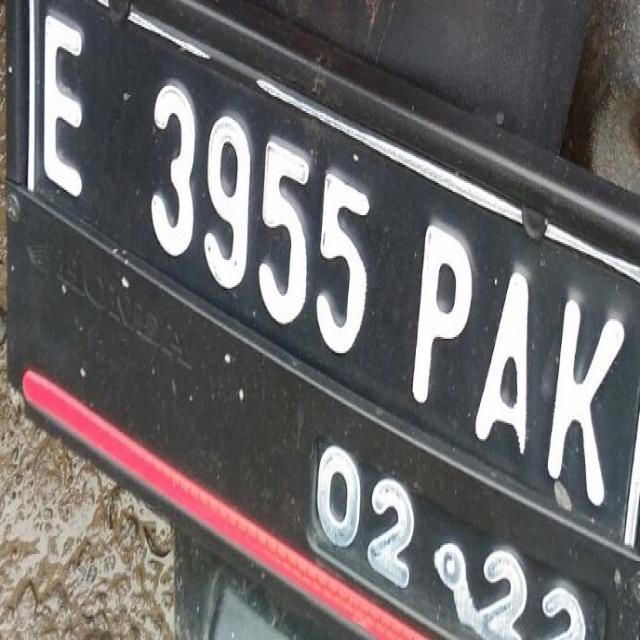plate: (14, 0, 639, 636)
